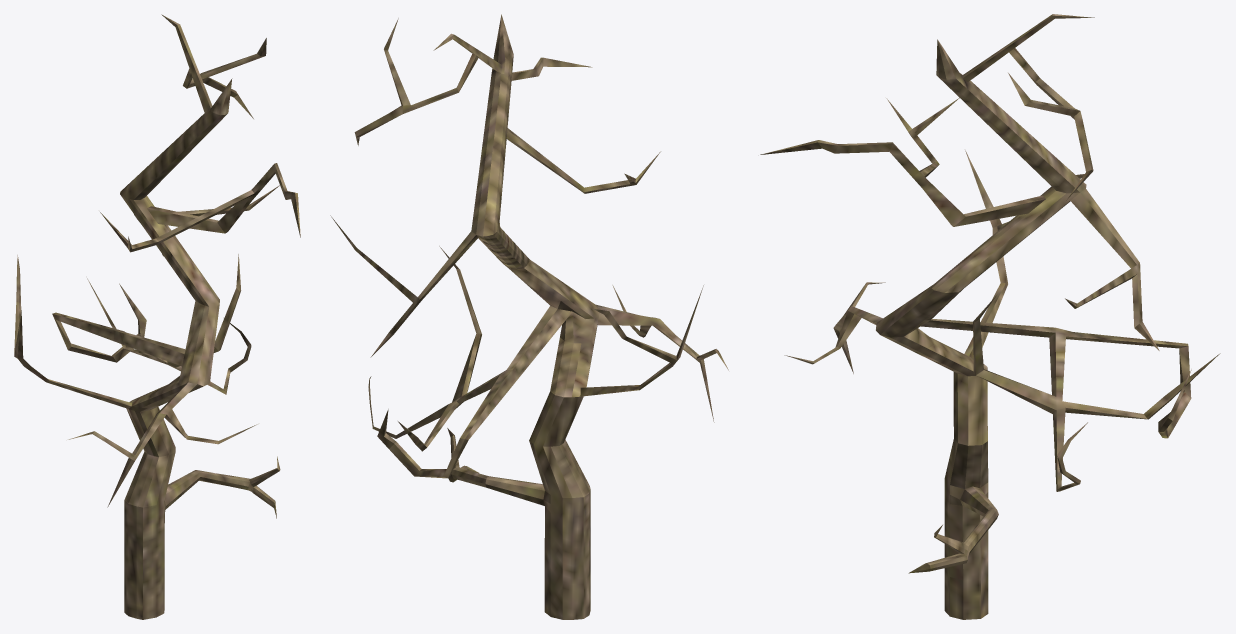
The model's file is roots.fbx.
The picture shows the model from 3 angles, left to right: view 1: azimuth 30°, elevation 25°; view 2: azimuth 150°, elevation 25°; view 3: azimuth 270°, elevation 25°; orthographic projection. The views are drawn at different scales.
Parts seen in each view (by area): view 1: Cube; view 2: Cube; view 3: Cube.
Boxes of the visible parts, x1,y1,x2,y2 form: Cube: (14, 14, 300, 619); Cube: (330, 14, 728, 619); Cube: (760, 14, 1220, 619).
Bounding box in the file's own units: 1177 × 2009 × 1329.
